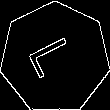L_NE: (26, 33, 84, 83)
